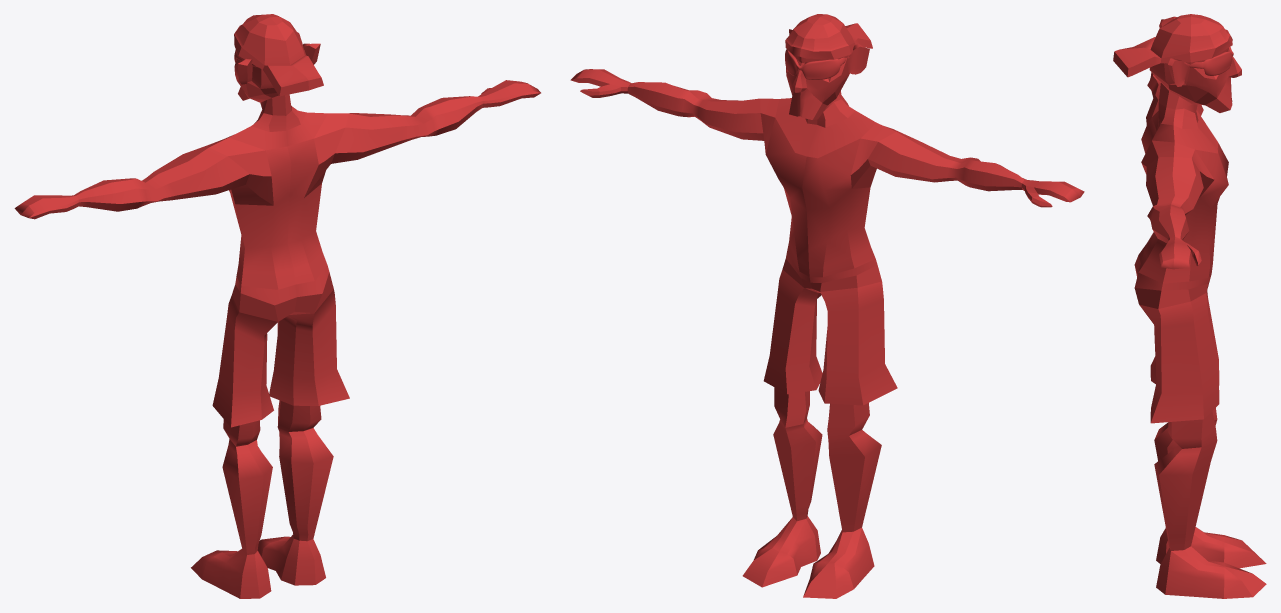
The model's file is tourist.fbx.
The picture shows the model from 3 angles, left to right: view 1: azimuth 30°, elevation 25°; view 2: azimuth 150°, elevation 25°; view 3: azimuth 270°, elevation 25°; orthographic projection. The views are drawn at different scales.
Visible parts, largest first — view 1: tourist_geo; view 2: tourist_geo, sunglasses_geo; view 3: tourist_geo, sunglasses_geo.
Part boxes in pixels (<box>): tourist_geo: <box>14,14,540,598</box>; tourist_geo: <box>570,14,1084,598</box>; sunglasses_geo: <box>785,49,850,79</box>; tourist_geo: <box>1113,14,1266,598</box>; sunglasses_geo: <box>1184,47,1233,75</box>.
Bounding box in the file's own units: 1.83 × 1.9 × 0.474.
